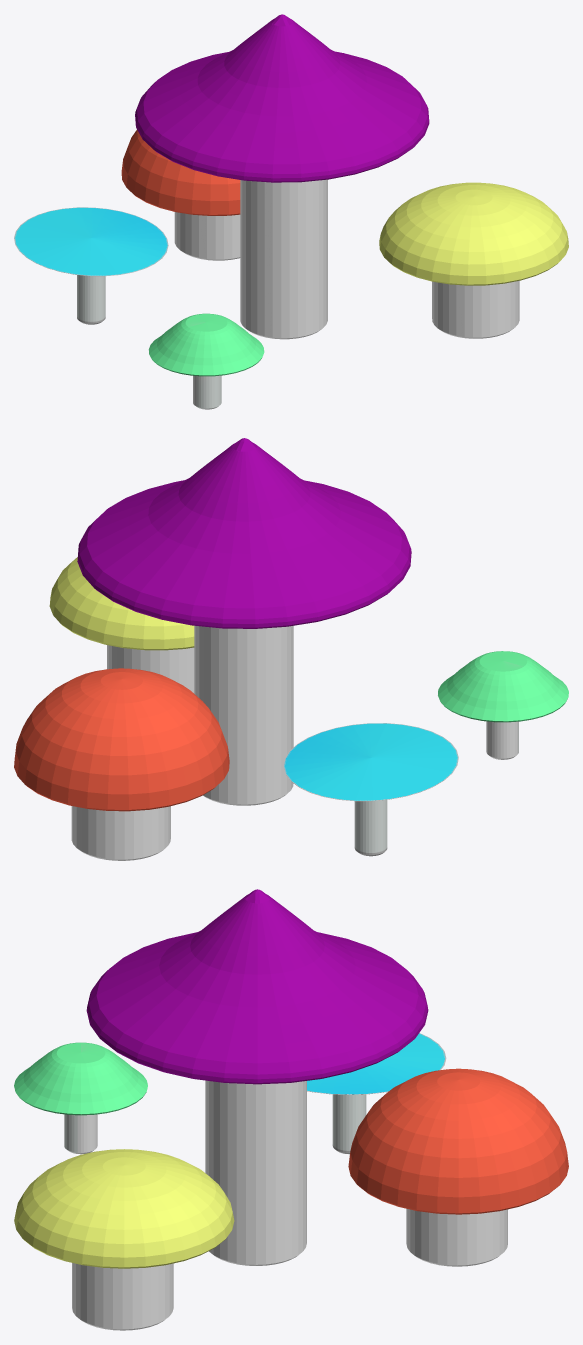
File: Cogumelo com cor.fbx
3 views of the same model, one above another, from view 1: azimuth 30°, elevation 25°; view 2: azimuth 150°, elevation 25°; view 3: azimuth 270°, elevation 25° (orthographic). The views are drawn at different scales.
Visible parts, largest first — view 1: base cogumelo 2; view 2: base cogumelo 2; view 3: base cogumelo 2.
Part boxes in pixels (bbox=[...]): base cogumelo 2: bbox=[14, 14, 568, 409]; base cogumelo 2: bbox=[14, 438, 568, 860]; base cogumelo 2: bbox=[14, 889, 568, 1330].
Bounding box in the file's own units: 285 × 193 × 273.
10 materials, 10 textured.
